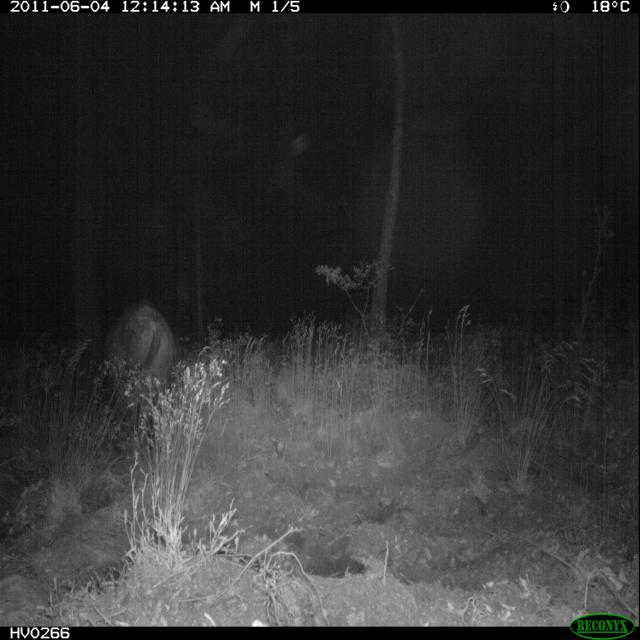boar: (78, 280, 201, 436)
